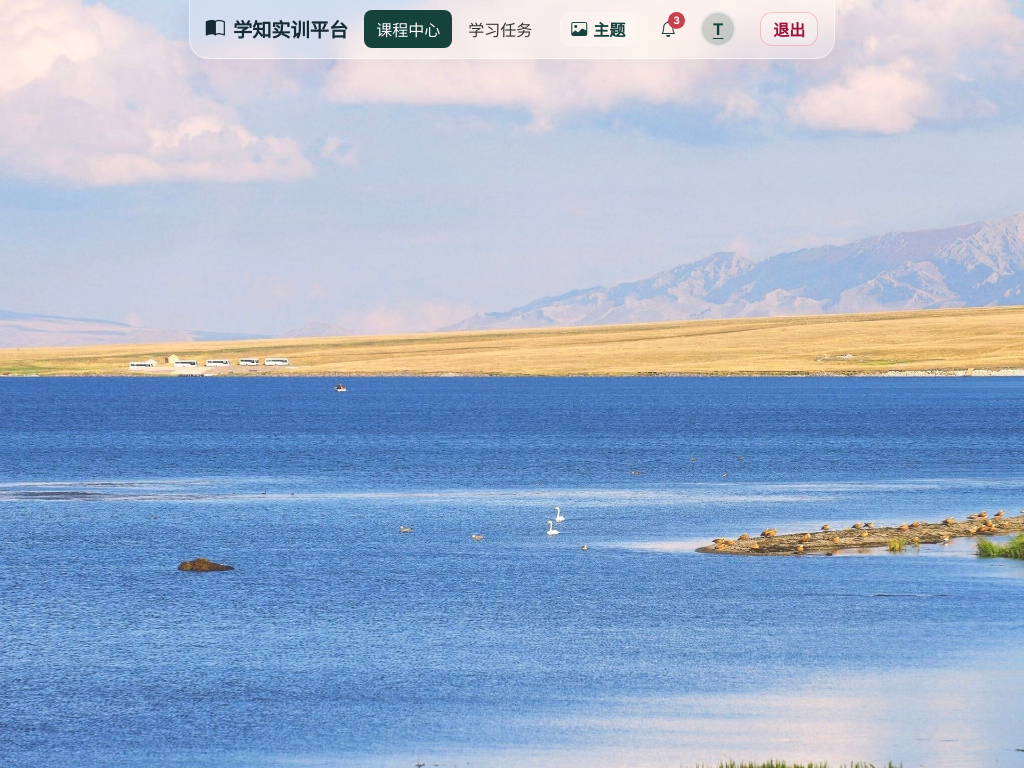
Test: PlatformNavigationBar › renders the theme menu as a dropdown grid
This screenshot has width=1024, height=768.
Click the button with test id "background-picker-toggle".
click(598, 29)  # box [560,12,636,46]
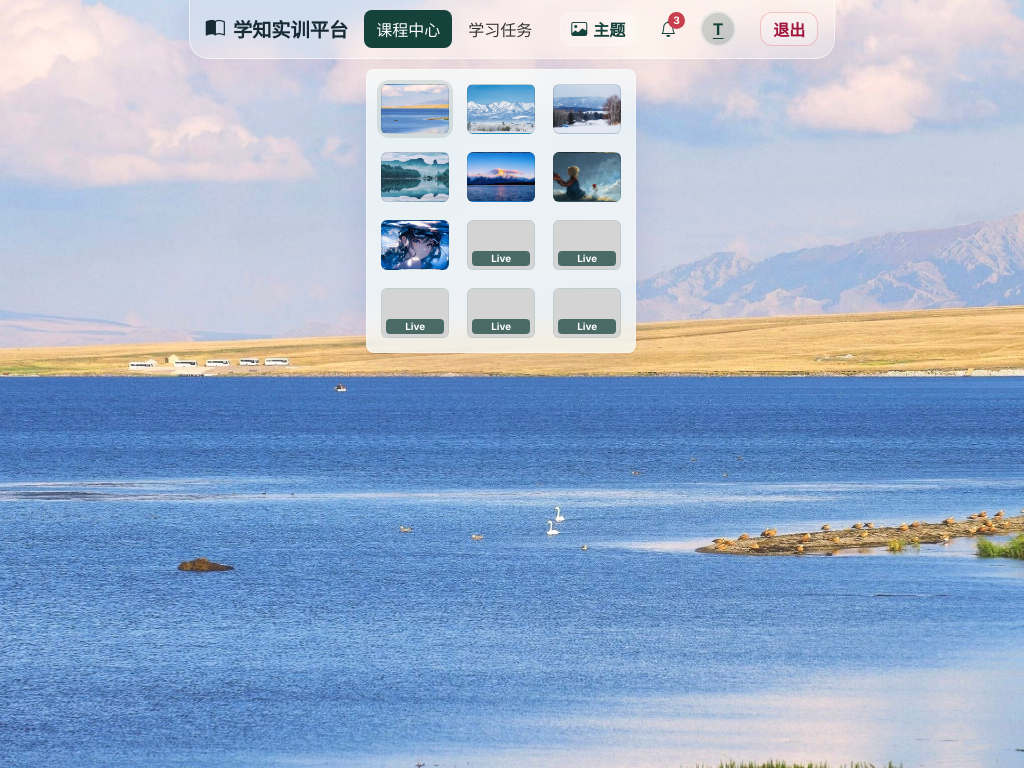
Expected: the element with class "background-picker__menu" is shown, [366,69,636,353]
